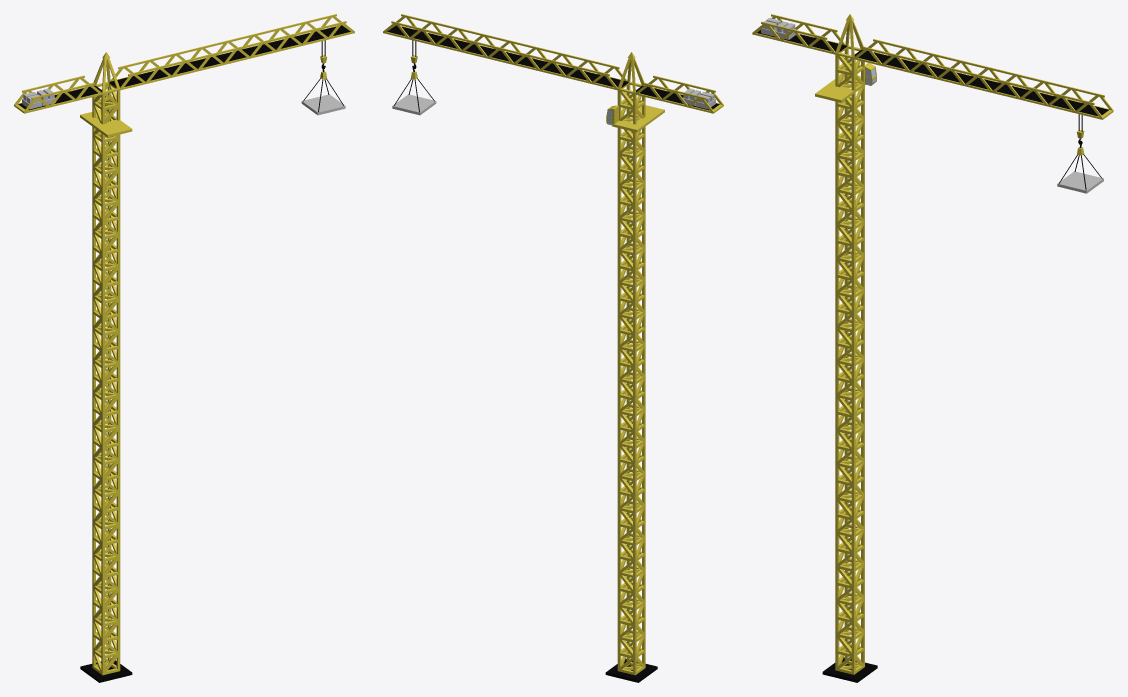
File: Grua.fbx
The picture shows the model from 3 angles, left to right: view 1: azimuth 30°, elevation 25°; view 2: azimuth 150°, elevation 25°; view 3: azimuth 330°, elevation 25°; orthographic projection. The views are drawn at different scales.
Visible parts, largest first — view 1: Viga_base, Cube.004; view 2: Viga_base, Cube.004; view 3: Viga_base, Cube.004.
Boxes of the visible parts, left/top/right/bottom form: Viga_base: left=14, top=14, right=354, bottom=682; Cube.004: left=301, top=55, right=345, bottom=115; Viga_base: left=383, top=14, right=723, bottom=682; Cube.004: left=392, top=55, right=436, bottom=115; Viga_base: left=752, top=14, right=1113, bottom=682; Cube.004: left=1057, top=130, right=1103, bottom=193.
Bounding box in the file's own units: 13458 × 24122 × 1951.
